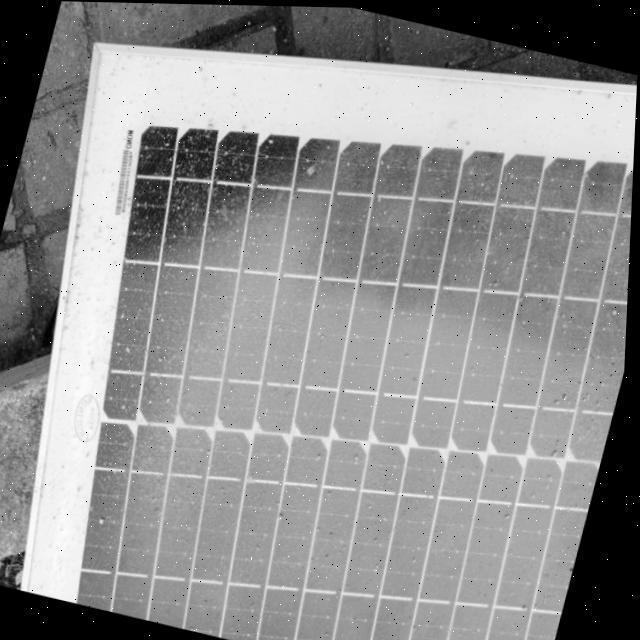Surface Contaminant: (58, 92, 634, 640)
